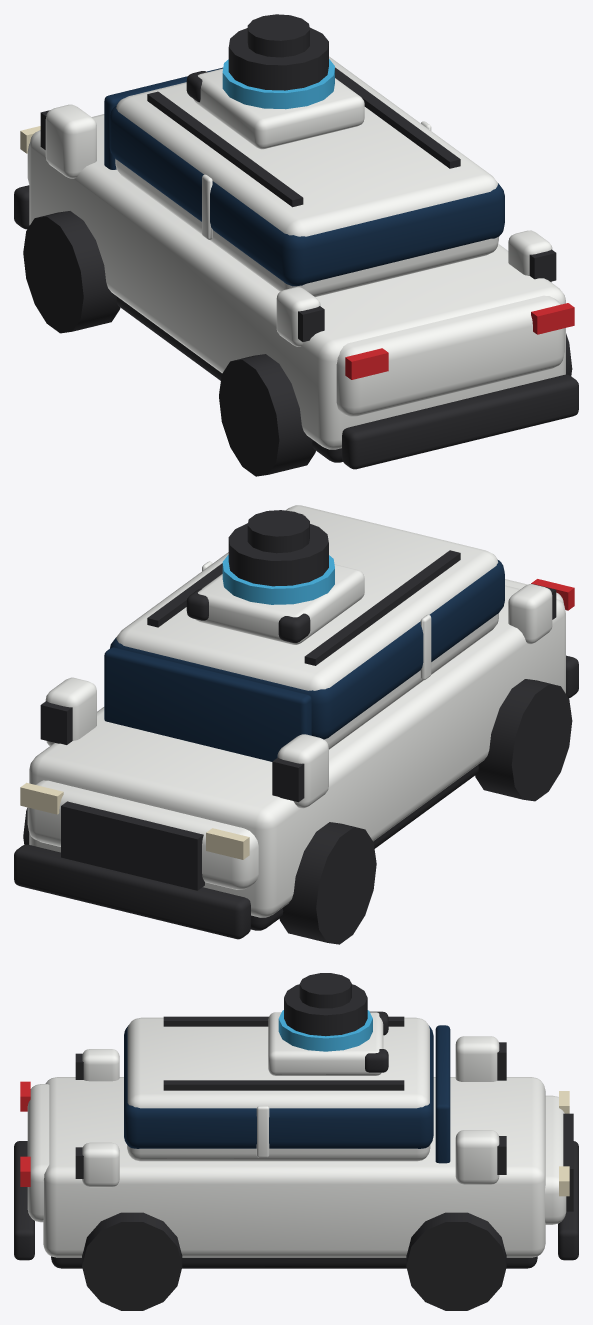
The model's file is waymo.glb.
The picture shows the model from 3 angles, top to bottom: view 1: azimuth 30°, elevation 25°; view 2: azimuth 150°, elevation 25°; view 3: azimuth 270°, elevation 25°; orthographic projection. The views are drawn at different scales.
Parts seen in each view (by area): view 1: Wy_Body, Wy_Cabin, Wy_Glass, Wy_Hatch, Wy_BumpR, Wy_Wheel_0, Wy_Wheel_2, Wy_PodBase, Wy_Dome, Wy_PodF_-1, Wy_Rail_-1, Wy_BlueRing (+11 smaller); view 2: Wy_Body, Wy_Cabin, Wy_Windshield, Wy_Glass, Wy_BumpF, Wy_Wheel_0, Wy_Wheel_2, Wy_Grille, Wy_Hood, Wy_PodBase, Wy_Dome, Wy_Rail_-1 (+14 smaller); view 3: Wy_Body, Wy_Cabin, Wy_Glass, Wy_Wheel_3, Wy_Wheel_1, Wy_PodBase, Wy_Skirt, Wy_Dome, Wy_Rail_+1, Wy_Hatch, Wy_PodF_+1, Wy_Hood (+12 smaller).
Part boxes in pixels (left/top/right/bottom): Wy_Body: left=29, top=114, right=565, bottom=449; Wy_Cabin: left=115, top=56, right=498, bottom=296; Wy_Glass: left=109, top=106, right=504, bottom=286; Wy_Hatch: left=336, top=295, right=564, bottom=416; Wy_BumpR: left=342, top=374, right=578, bottom=469; Wy_Wheel_0: left=23, top=211, right=120, bottom=333; Wy_Wheel_2: left=219, top=354, right=315, bottom=476; Wy_PodBase: left=193, top=68, right=364, bottom=149; Wy_Dome: left=228, top=27, right=328, bottom=90; Wy_PodF_-1: left=45, top=104, right=96, bottom=178; Wy_Rail_-1: left=147, top=91, right=303, bottom=207; Wy_BlueRing: left=222, top=59, right=334, bottom=109; Wy_Body: left=29, top=585, right=565, bottom=917; Wy_Cabin: left=116, top=505, right=498, bottom=749; Wy_Windshield: left=104, top=647, right=311, bottom=761; Wy_Glass: left=110, top=560, right=504, bottom=739; Wy_BumpF: left=14, top=844, right=250, bottom=939; Wy_Wheel_0: left=279, top=822, right=376, bottom=944; Wy_Wheel_2: left=475, top=679, right=572, bottom=801; Wy_Grille: left=61, top=801, right=204, bottom=890; Wy_Hood: left=27, top=780, right=258, bottom=889; Wy_PodBase: left=195, top=564, right=364, bottom=644; Wy_Dome: left=228, top=523, right=328, bottom=586; Wy_Rail_-1: left=304, top=550, right=460, bottom=665; Wy_Body: left=43, top=1077, right=545, bottom=1257; Wy_Cabin: left=127, top=1017, right=430, bottom=1161; Wy_Glass: left=124, top=1025, right=433, bottom=1148; Wy_Wheel_3: left=82, top=1212, right=182, bottom=1310; Wy_Wheel_1: left=406, top=1212, right=506, bottom=1310; Wy_PodBase: left=268, top=1012, right=383, bottom=1075; Wy_Skirt: left=51, top=1256, right=537, bottom=1268; Wy_Dome: left=284, top=984, right=367, bottom=1036; Wy_Rail_+1: left=163, top=1080, right=404, bottom=1090; Wy_Hatch: left=27, top=1084, right=49, bottom=1222; Wy_PodF_+1: left=455, top=1130, right=499, bottom=1184; Wy_Hood: left=545, top=1095, right=566, bottom=1224.
Bounding box in the file's own units: 2.68 × 2.82 × 5.4.
